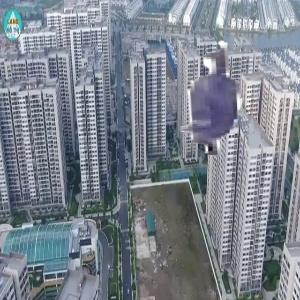drone: (128, 22, 299, 193)
